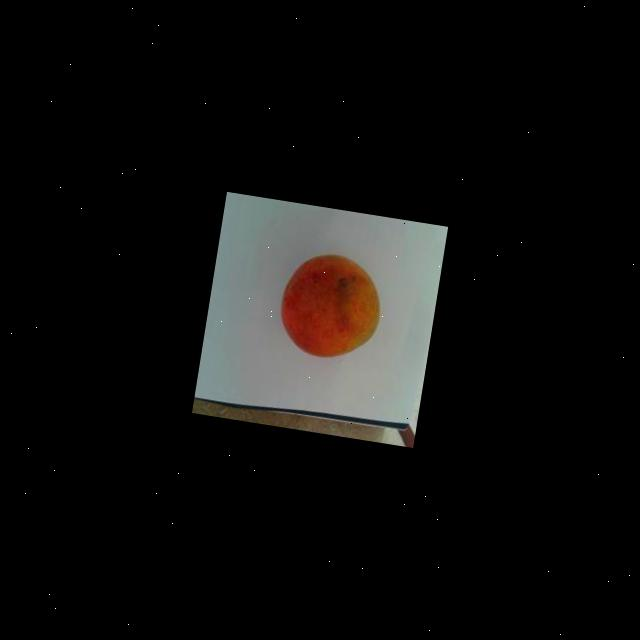Mango: (272, 248, 388, 366)
